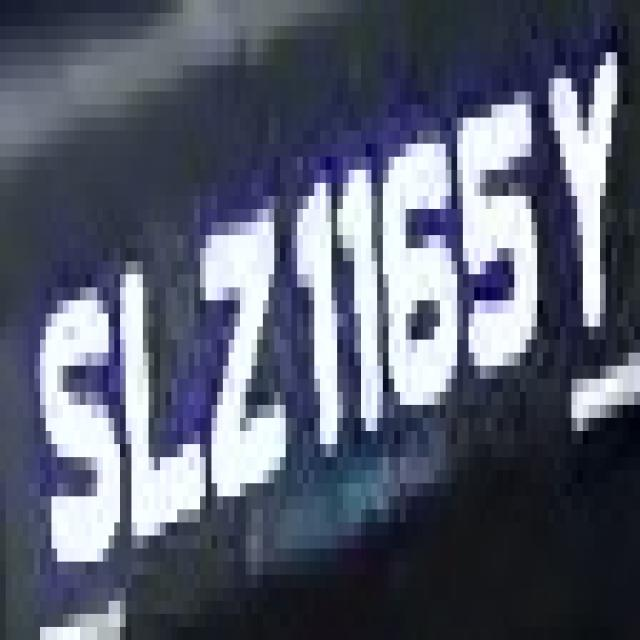1: (337, 105, 389, 457), (286, 118, 337, 457)
5: (446, 65, 537, 392)
6: (377, 105, 457, 444)
L: (108, 248, 212, 562)
S: (17, 235, 120, 601)
Y: (532, 26, 628, 366)
Z: (200, 170, 291, 535)
